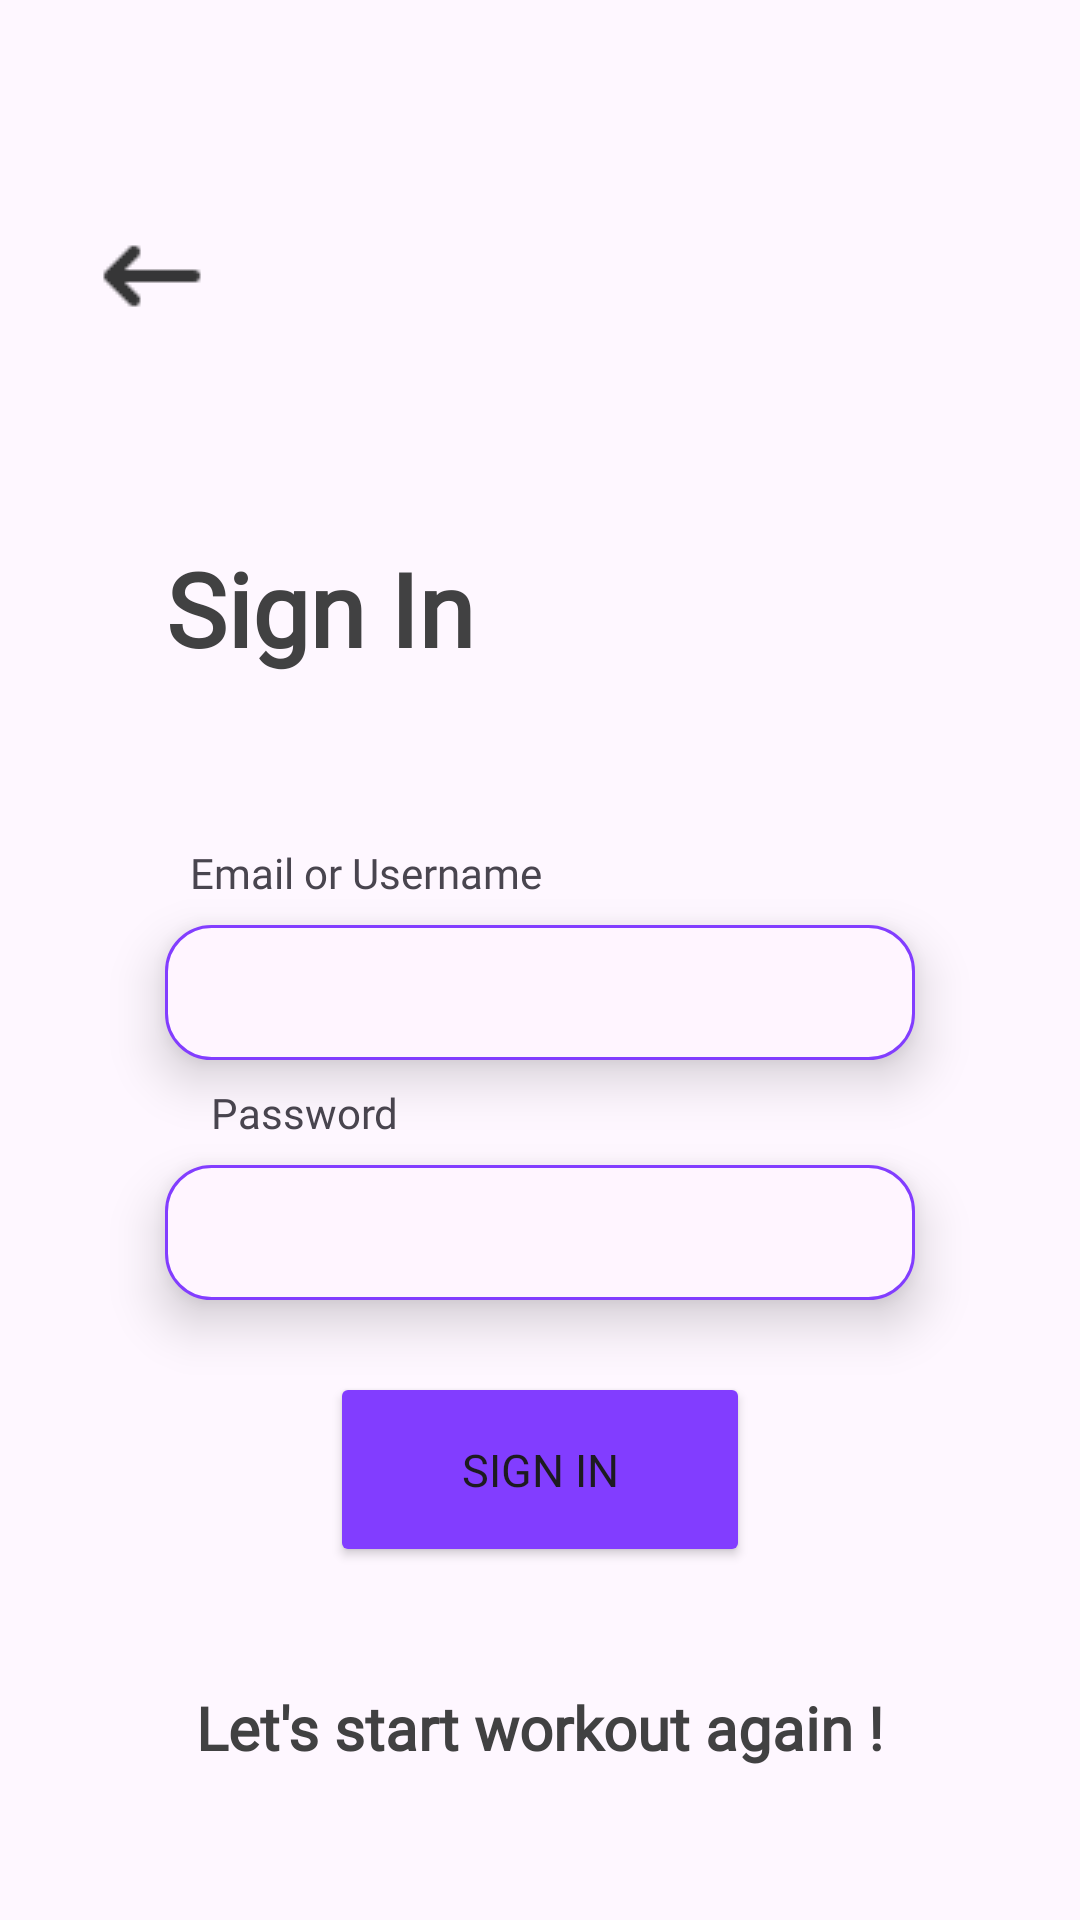

Named icons in this screenshot (1080 x 1920) and their centers, [x,y]:
arrow back: [152,276]
